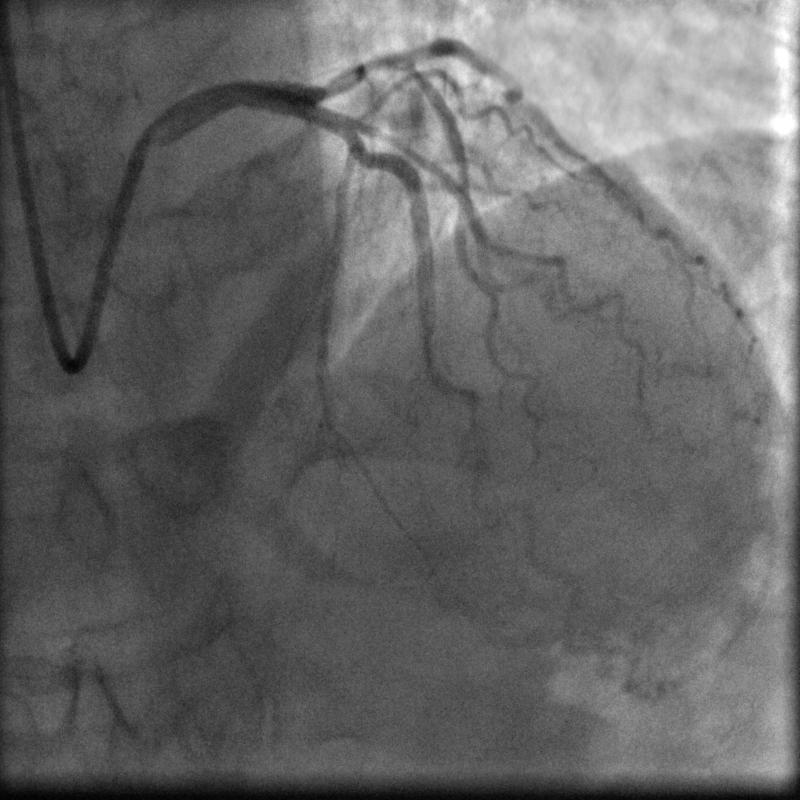Stenosis: (305, 59, 369, 101)
